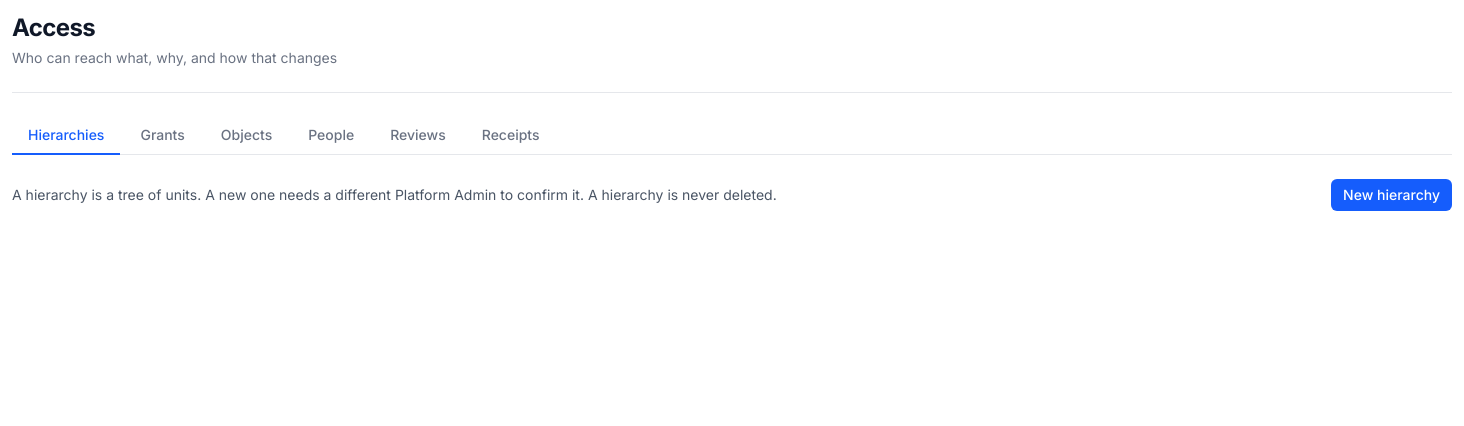
Test: Access section: reviews and receipts › Receipts lists a page of receipts and can check the chain
Click the tab "Receipts": (511, 136) [466,117,556,155]
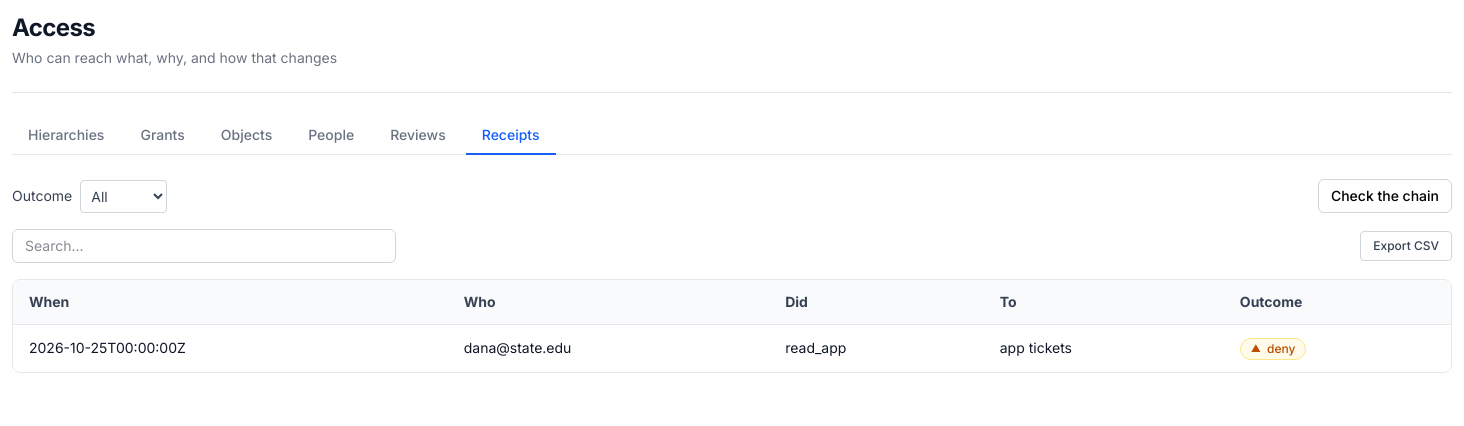
Expected: the text "dana@state.edu" is shown, [448,324,769,372]
Expected: the text "deny" is shown, [1267,341,1296,357]
Click the button "Check the chain": (1385, 196) [1318,179,1452,213]
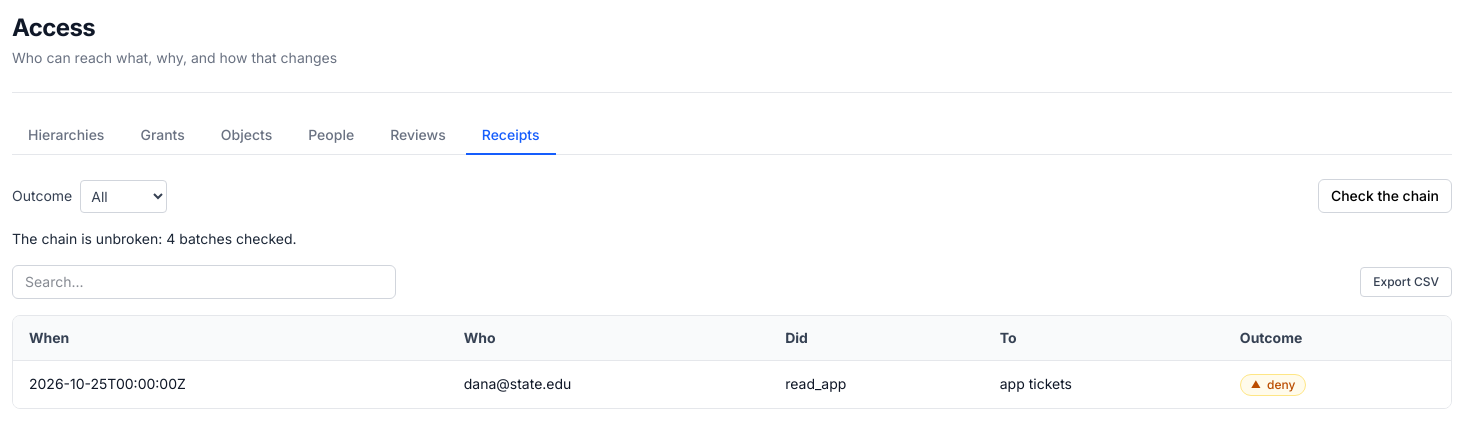
Expected: the text "The chain is unbroken: 4 batches checked." is shown, [12,230,296,247]
